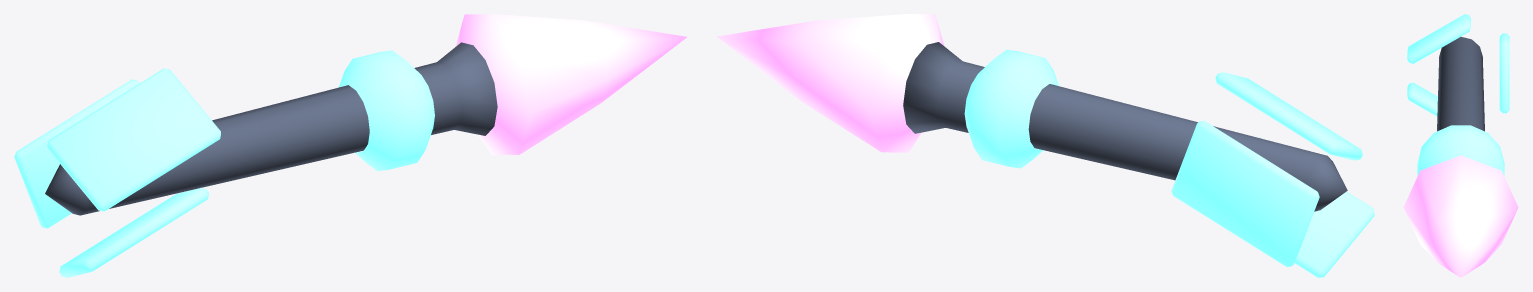
File: sniper_bolt.glb
3 renders of one model, left to right at view 1: azimuth 30°, elevation 25°; view 2: azimuth 150°, elevation 25°; view 3: azimuth 270°, elevation 25°, orthographic. The views are drawn at different scales.
Parts seen in each view (by area): view 1: SniperShaft, SniperHead, Cube.001, SniperRing, Cube, Cube.002; view 2: SniperShaft, SniperHead, Cube, SniperRing, Cube.002, Cube.001; view 3: SniperHead, SniperShaft, SniperRing, Cube.001, Cube, Cube.002.
Part boxes in pixels (x1,y1,x2,y2): SniperShaft: (45,42,497,215); SniperHead: (455,14,686,155); Cube.001: (47,68,220,211); SniperRing: (338,50,434,171); Cube: (14,79,139,228); Cube.002: (59,188,208,277); SniperShaft: (903,42,1347,211); SniperHead: (716,14,944,152); Cube: (1171,120,1319,267); SniperRing: (964,49,1058,168); Cube.002: (1258,137,1374,277); Cube.001: (1215,72,1362,160); SniperHead: (1403,155,1518,277); SniperShaft: (1437,37,1484,131); SniperRing: (1417,125,1504,175); Cube.001: (1407,14,1470,63); Cube: (1499,33,1509,113); Cube.002: (1407,82,1437,116).
Bounding box in the file's own units: 1.38 × 0.3784 × 0.29.
